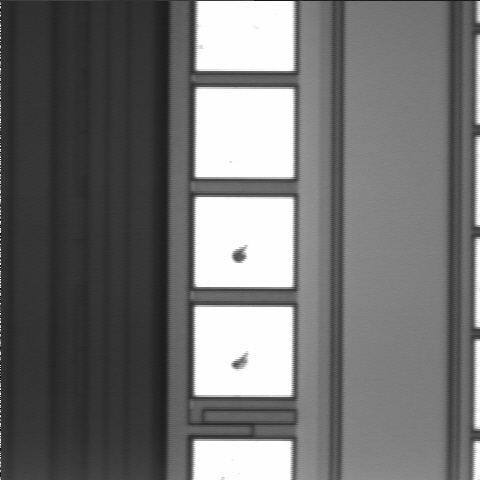pad: (196, 87, 294, 177), (195, 197, 293, 287), (195, 307, 293, 397)
